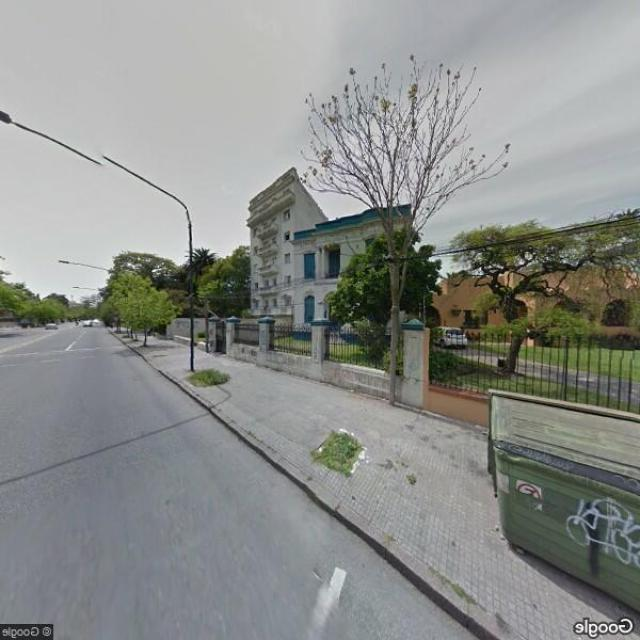garbage container: (474, 383, 639, 623)
